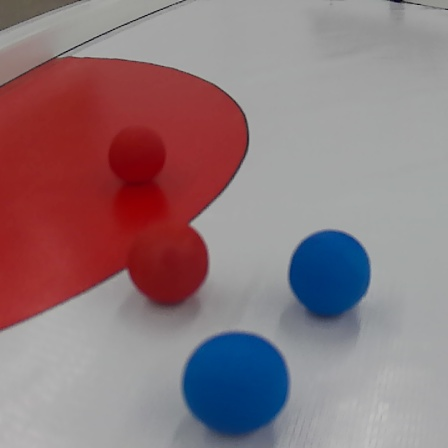blue: (183, 331, 291, 437), (289, 226, 375, 320)
red: (120, 223, 210, 306), (106, 119, 167, 184)
red_base: (0, 51, 248, 351)
